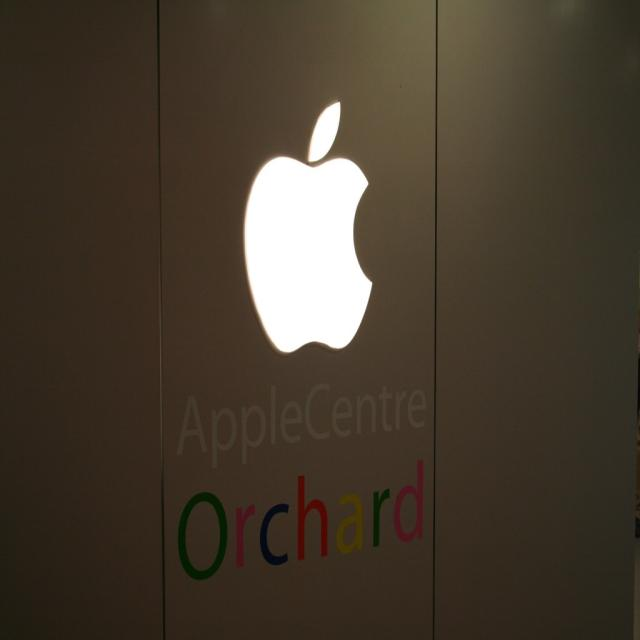Healty Apple: (242, 98, 377, 353)
